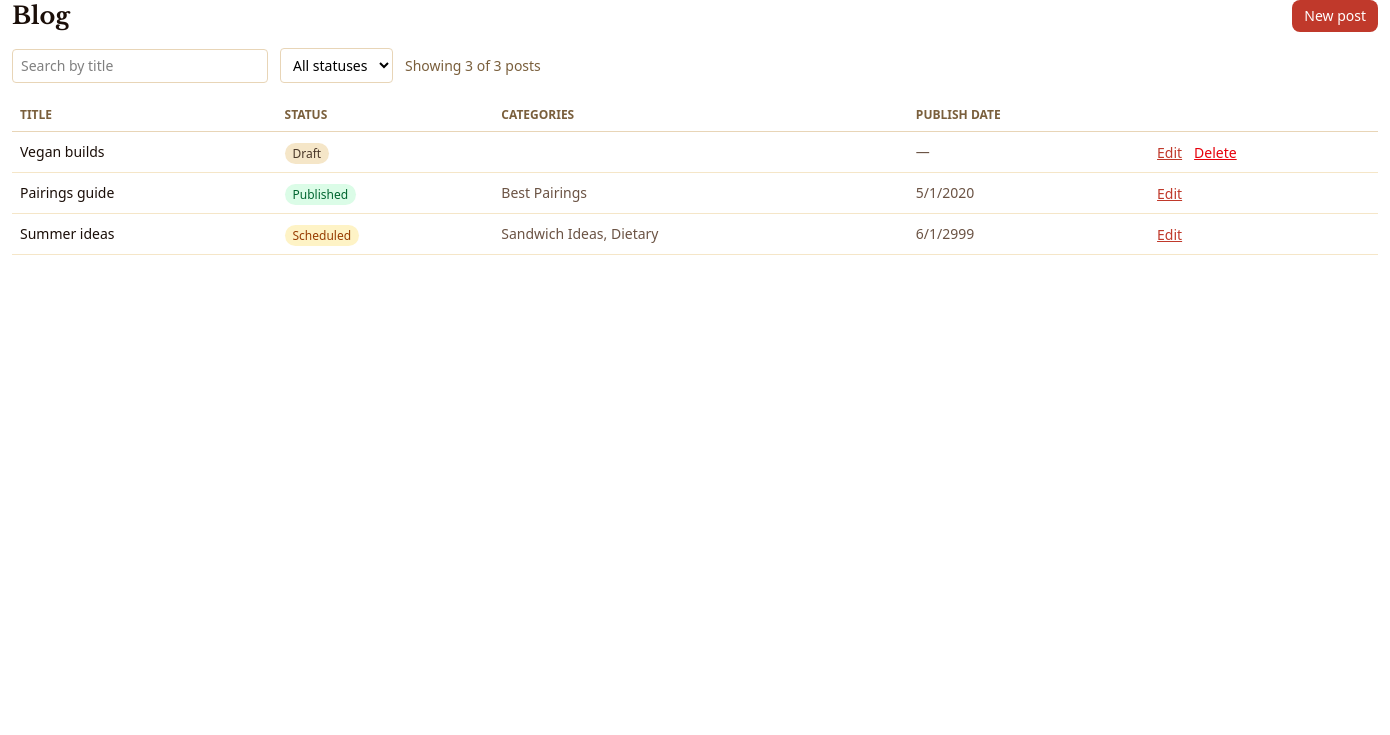
Test case: BlogManagementPage related sandwiches › says so when no sandwich matches the search
This screenshot has width=1390, height=735.
expect the text "Vegan builds" is shown: met, box [12,132,276,172]
Click the button "New post" at [1335, 16], box [1292,0,1378,32]
(page scrolled)
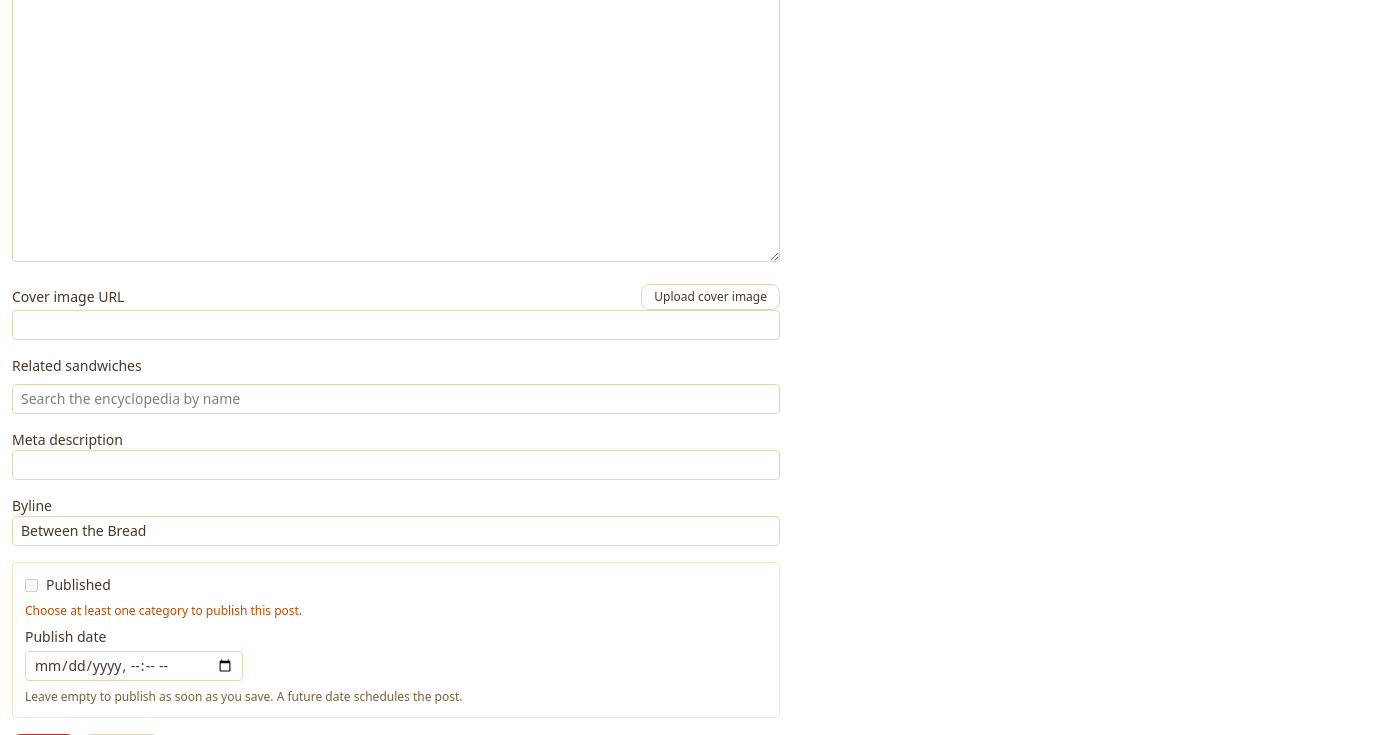
Type "zzz" into the search field named "Search sandwiches" at [396, 399], box [12,384,780,414]
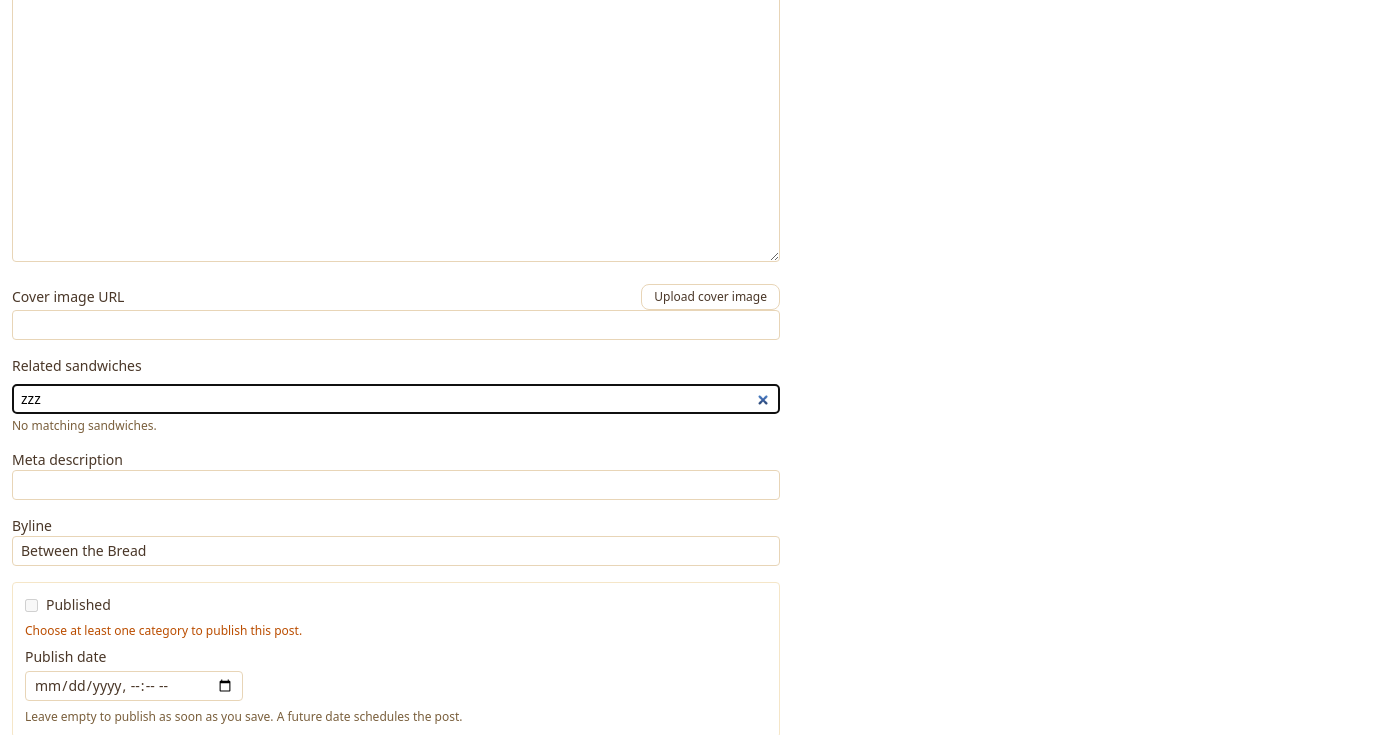
expect the text "No matching sandwiches." is shown: met, box [12,417,157,434]
